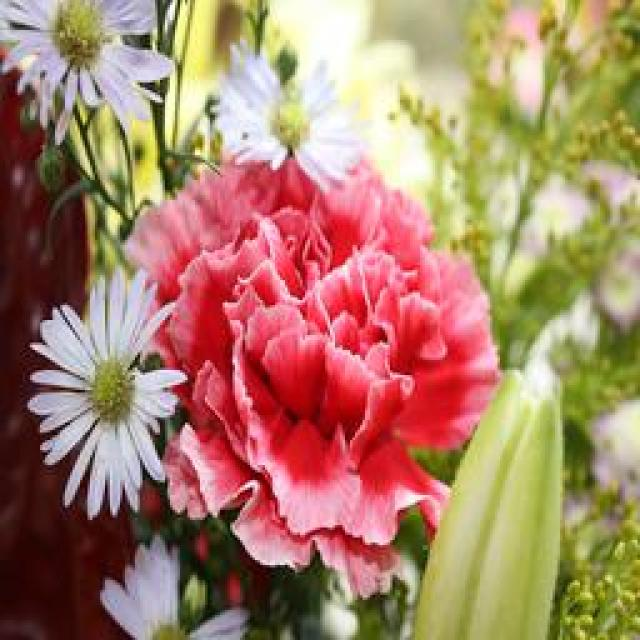carnation: (94, 135, 500, 560)
